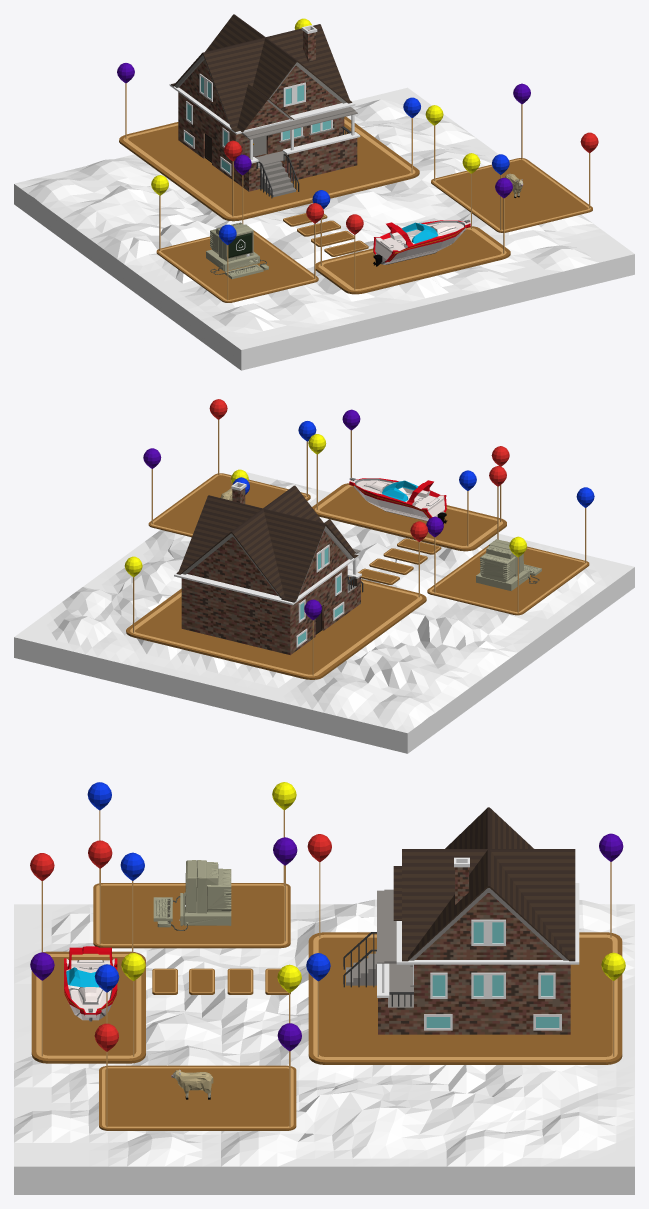
3 renders of one model, top to bottom at view 1: azimuth 30°, elevation 25°; view 2: azimuth 150°, elevation 25°; view 3: azimuth 270°, elevation 25°, orthographic. The views are drawn at different scales.
Visible parts, largest first — view 1: Cube.013, Cube.117, VEHICLES_BOAT, OBJRANDOM_RETRO_PC; view 2: Cube.013, Cube.117, VEHICLES_BOAT, OBJRANDOM_RETRO_PC; view 3: Cube.013, Cube.117, OBJRANDOM_RETRO_PC, VEHICLES_BOAT, ANIMAL_OVEJA.
Part boxes in pixels (bbox=[...]): Cube.013: bbox=[14, 18, 634, 370]; Cube.117: bbox=[169, 14, 360, 198]; VEHICLES_BOAT: bbox=[373, 219, 470, 266]; OBJRANDOM_RETRO_PC: bbox=[206, 222, 268, 279]; Cube.013: bbox=[14, 399, 634, 753]; Cube.117: bbox=[174, 482, 363, 655]; VEHICLES_BOAT: bbox=[349, 477, 447, 523]; OBJRANDOM_RETRO_PC: bbox=[476, 539, 541, 590]; Cube.013: bbox=[14, 782, 634, 1194]; Cube.117: bbox=[343, 807, 579, 1034]; OBJRANDOM_RETRO_PC: bbox=[153, 860, 231, 930]; VEHICLES_BOAT: bbox=[64, 946, 117, 1021]; ANIMAL_OVEJA: bbox=[171, 1069, 213, 1099].
Size of the model in its own units: 4000 by 1789 by 4000.
32 materials, 2 textured.
